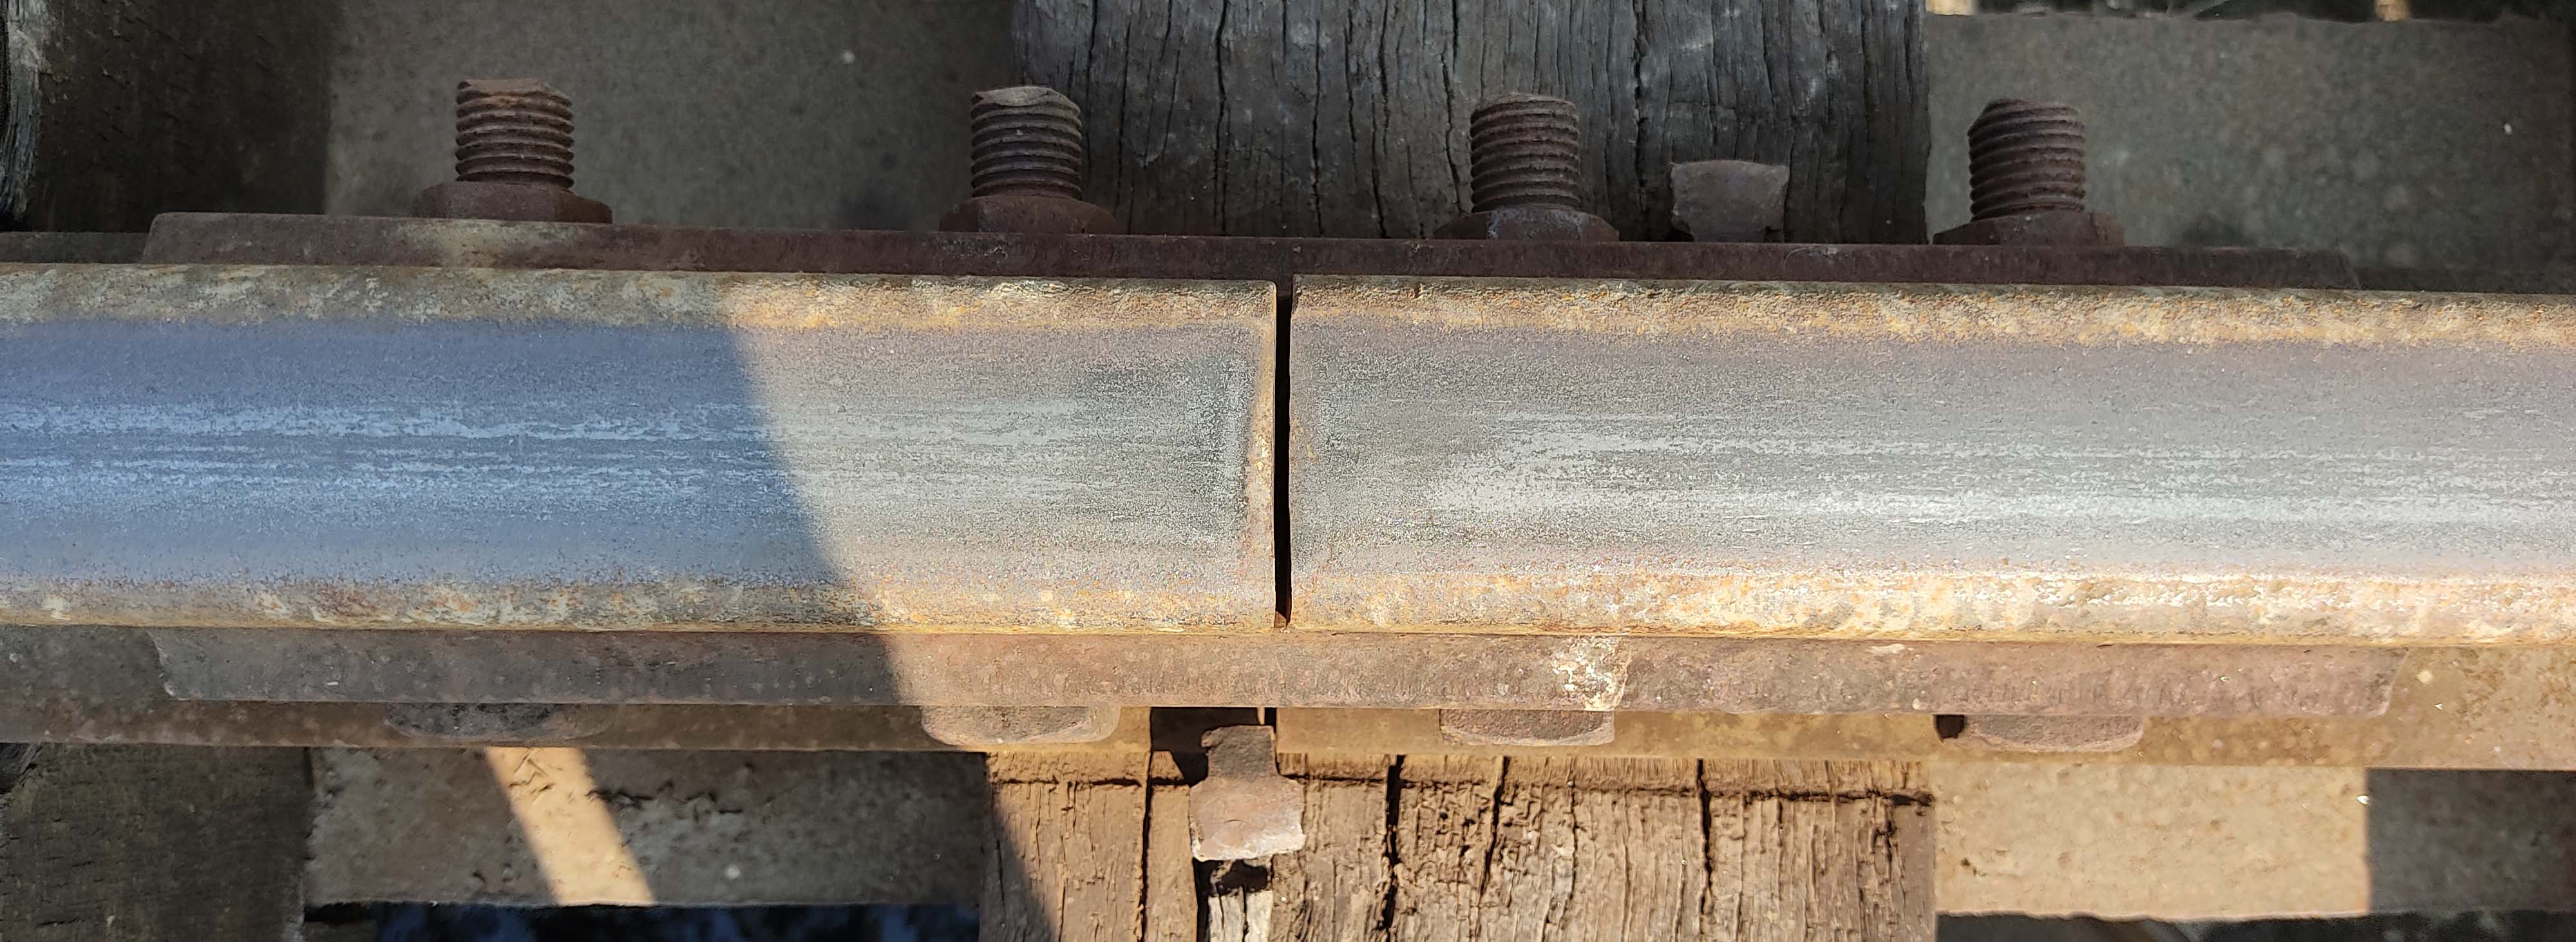error2: (1211, 245, 1370, 690)
